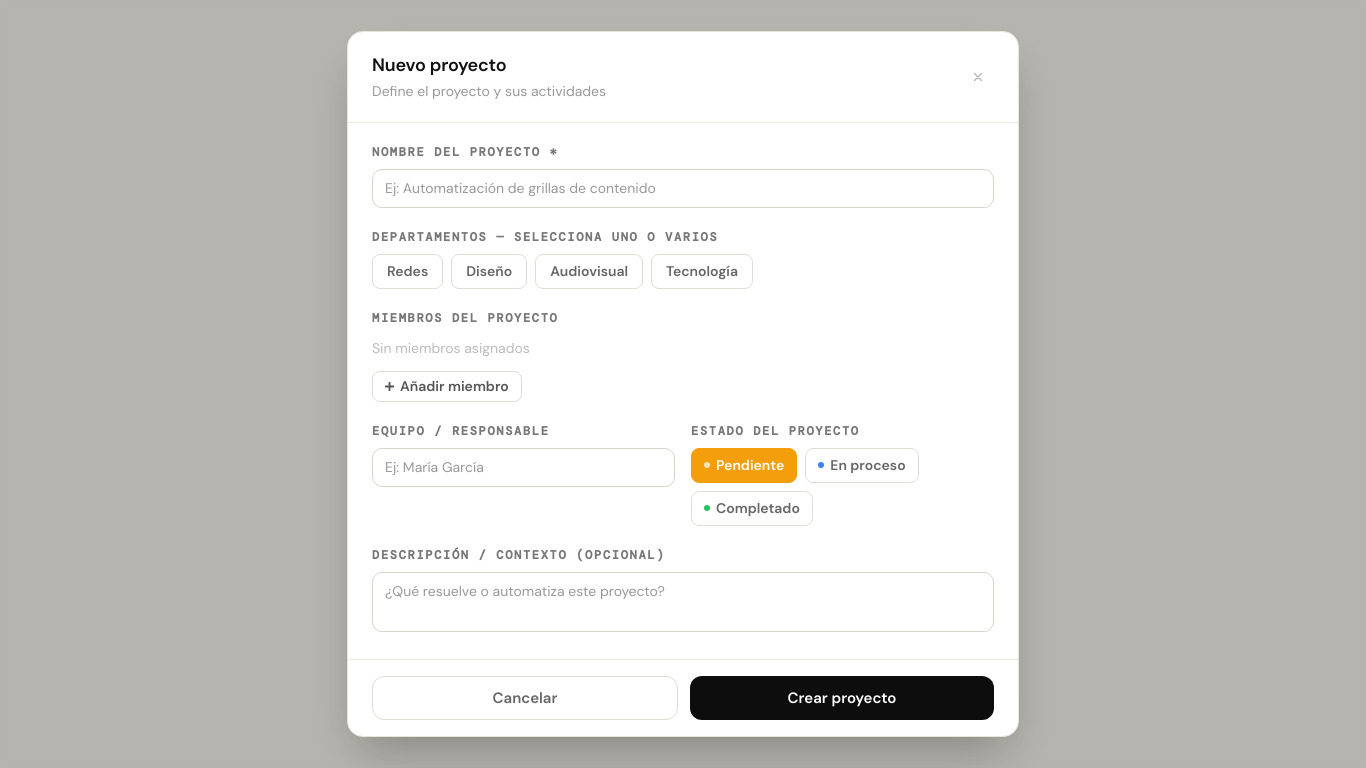
ProjectModal — member picker › agregar un usuario muestra su chip y el checkmark en el popover
Click the button "Añadir miembro". click: (447, 386)
box: x1=372 y1=371 x2=522 y2=402
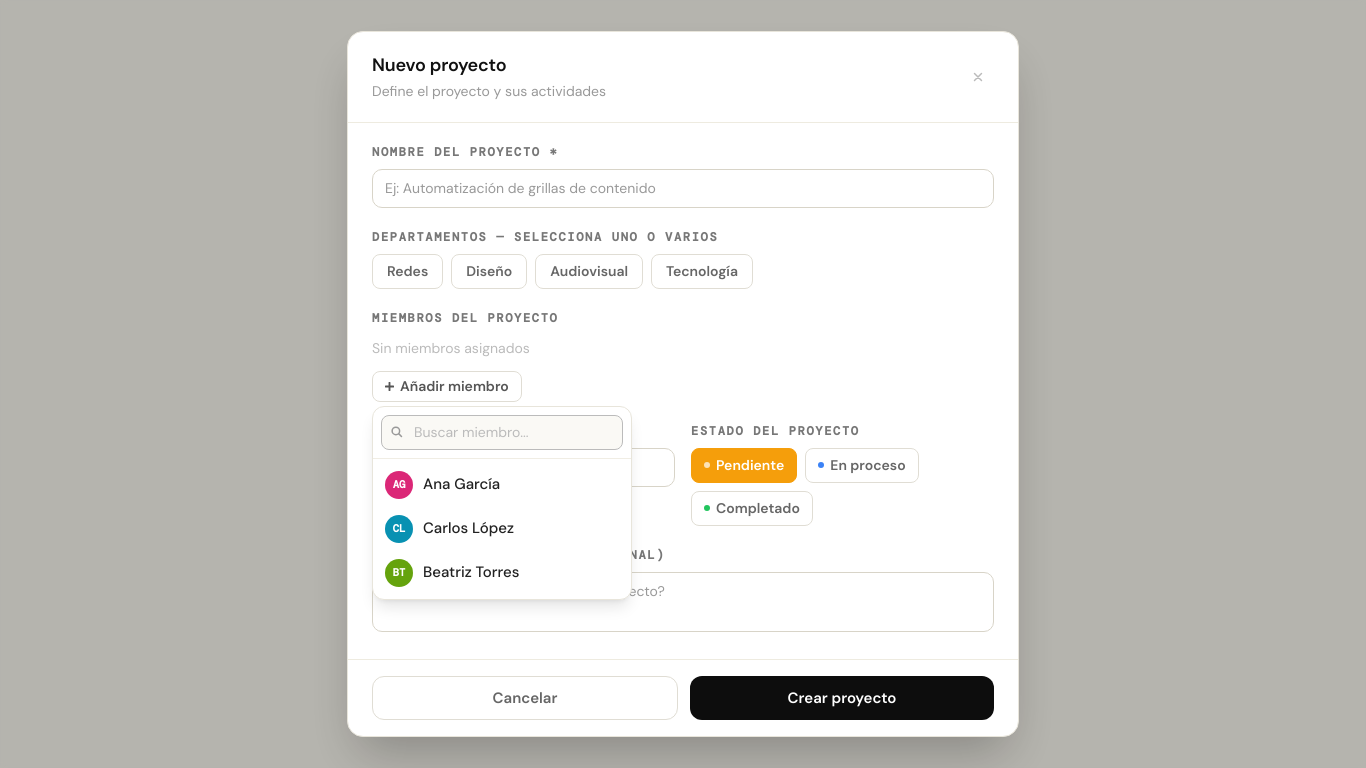
Click the button "AG Ana García". click: (502, 485)
box: x1=373 y1=463 x2=631 y2=507
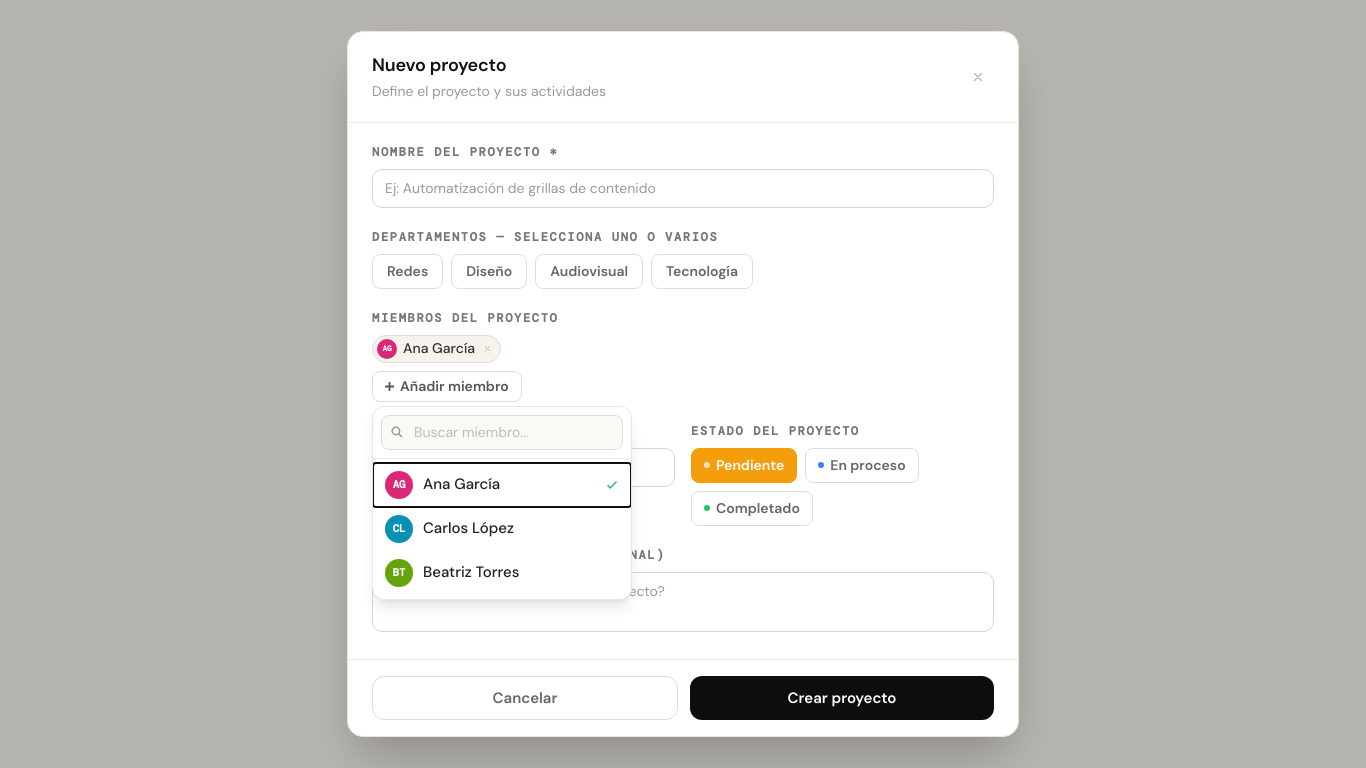
Result: the button named "quitar a ana garcía" is shown at x1=483 y1=344 x2=492 y2=353
